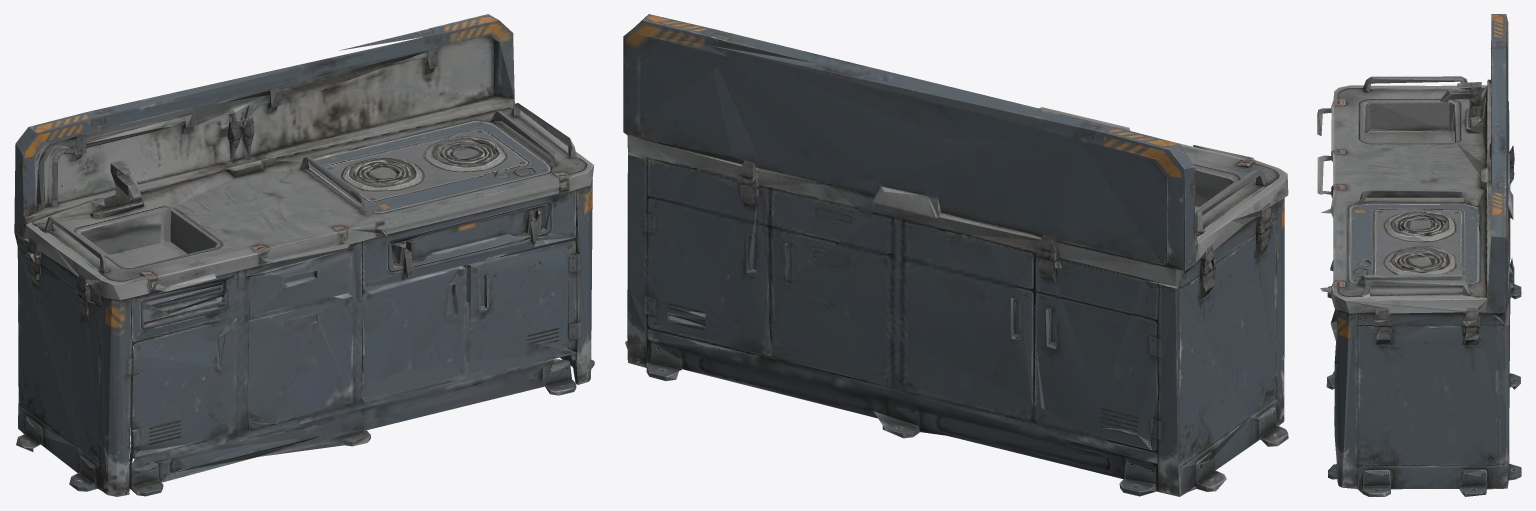
Rendered from galley.glb.
3 renders of one model, left to right at view 1: azimuth 30°, elevation 25°; view 2: azimuth 150°, elevation 25°; view 3: azimuth 270°, elevation 25°, orthographic. The views are drawn at different scales.
Visible parts, largest first — view 1: Mesh_0; view 2: Mesh_0; view 3: Mesh_0.
Part boxes in pixels (x1,y1,x2,y2): Mesh_0: (14, 14, 594, 496); Mesh_0: (623, 14, 1288, 496); Mesh_0: (1317, 14, 1521, 496).
Size of the model in its own units: 2.6 by 1.45 by 0.9948.
1 material, 1 textured.
